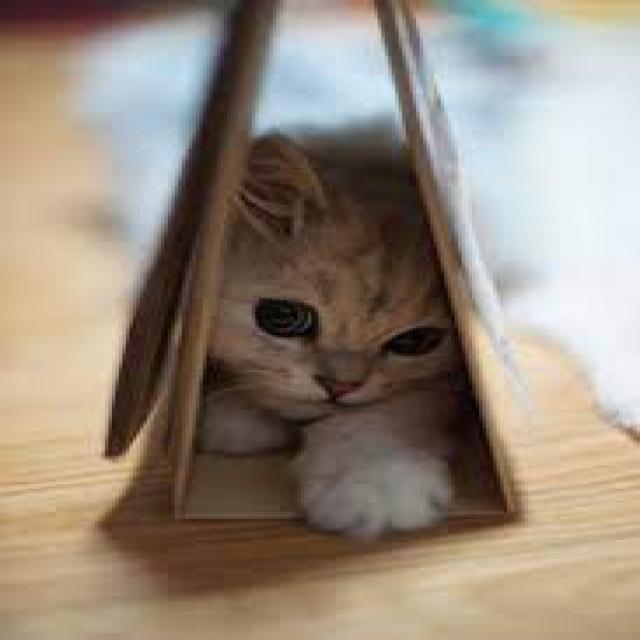Cat: (183, 126, 502, 544)
